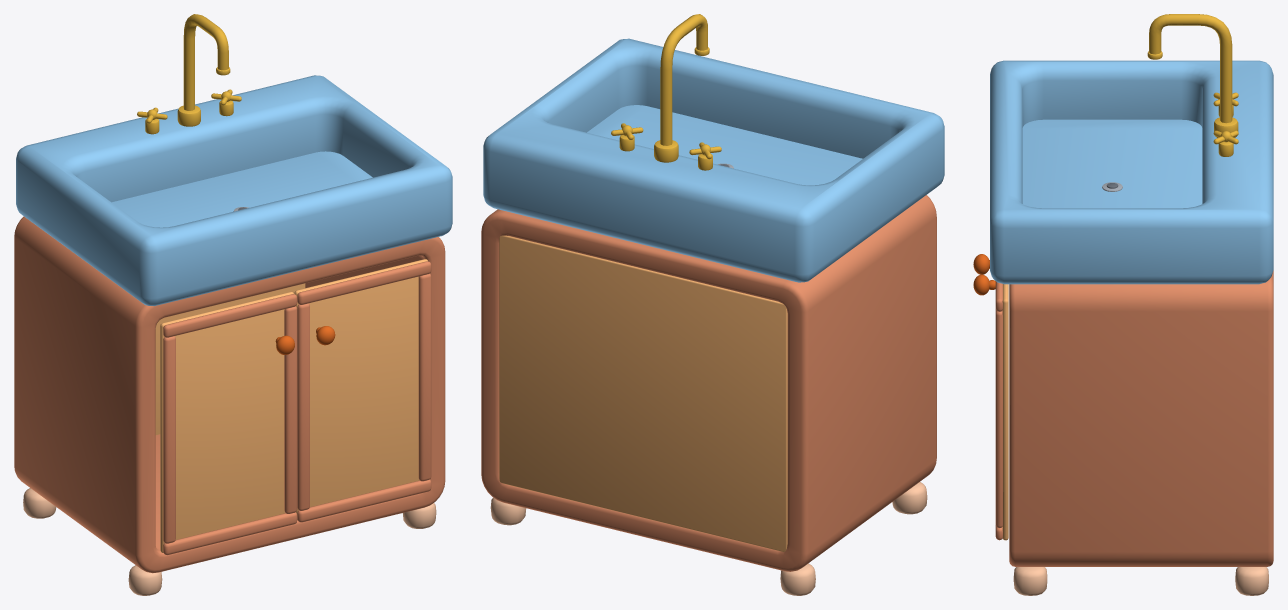
Rendered from armario_cozinha_pia_campestre.glb.
3 views of the same model, side by side, from view 1: azimuth 30°, elevation 25°; view 2: azimuth 150°, elevation 25°; view 3: azimuth 270°, elevation 25° (orthographic). The views are drawn at different scales.
Parts seen in each view (by area): view 1: armario_cozinha_pia_campestre, porta_1, porta_2; view 2: armario_cozinha_pia_campestre; view 3: armario_cozinha_pia_campestre, porta_2.
Boxes of the visible parts, bbox=[...] form: armario_cozinha_pia_campestre: bbox=[14, 14, 452, 595]; porta_1: bbox=[160, 292, 297, 555]; porta_2: bbox=[294, 259, 431, 522]; armario_cozinha_pia_campestre: bbox=[481, 14, 944, 595]; armario_cozinha_pia_campestre: bbox=[990, 14, 1273, 595]; porta_2: bbox=[973, 274, 1008, 540].
Bounding box in the file's own units: 0.798 × 1.18 × 0.6336.
Materials: 1 (1 with a texture image).
